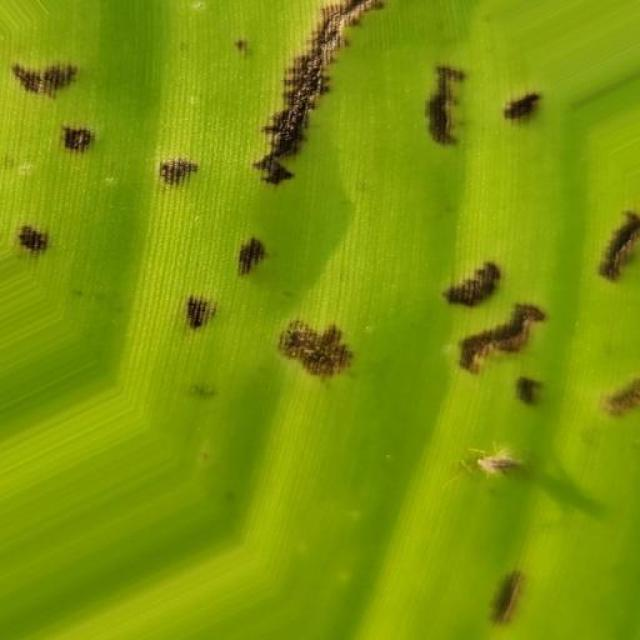Black_rot: (7, 1, 640, 640)
